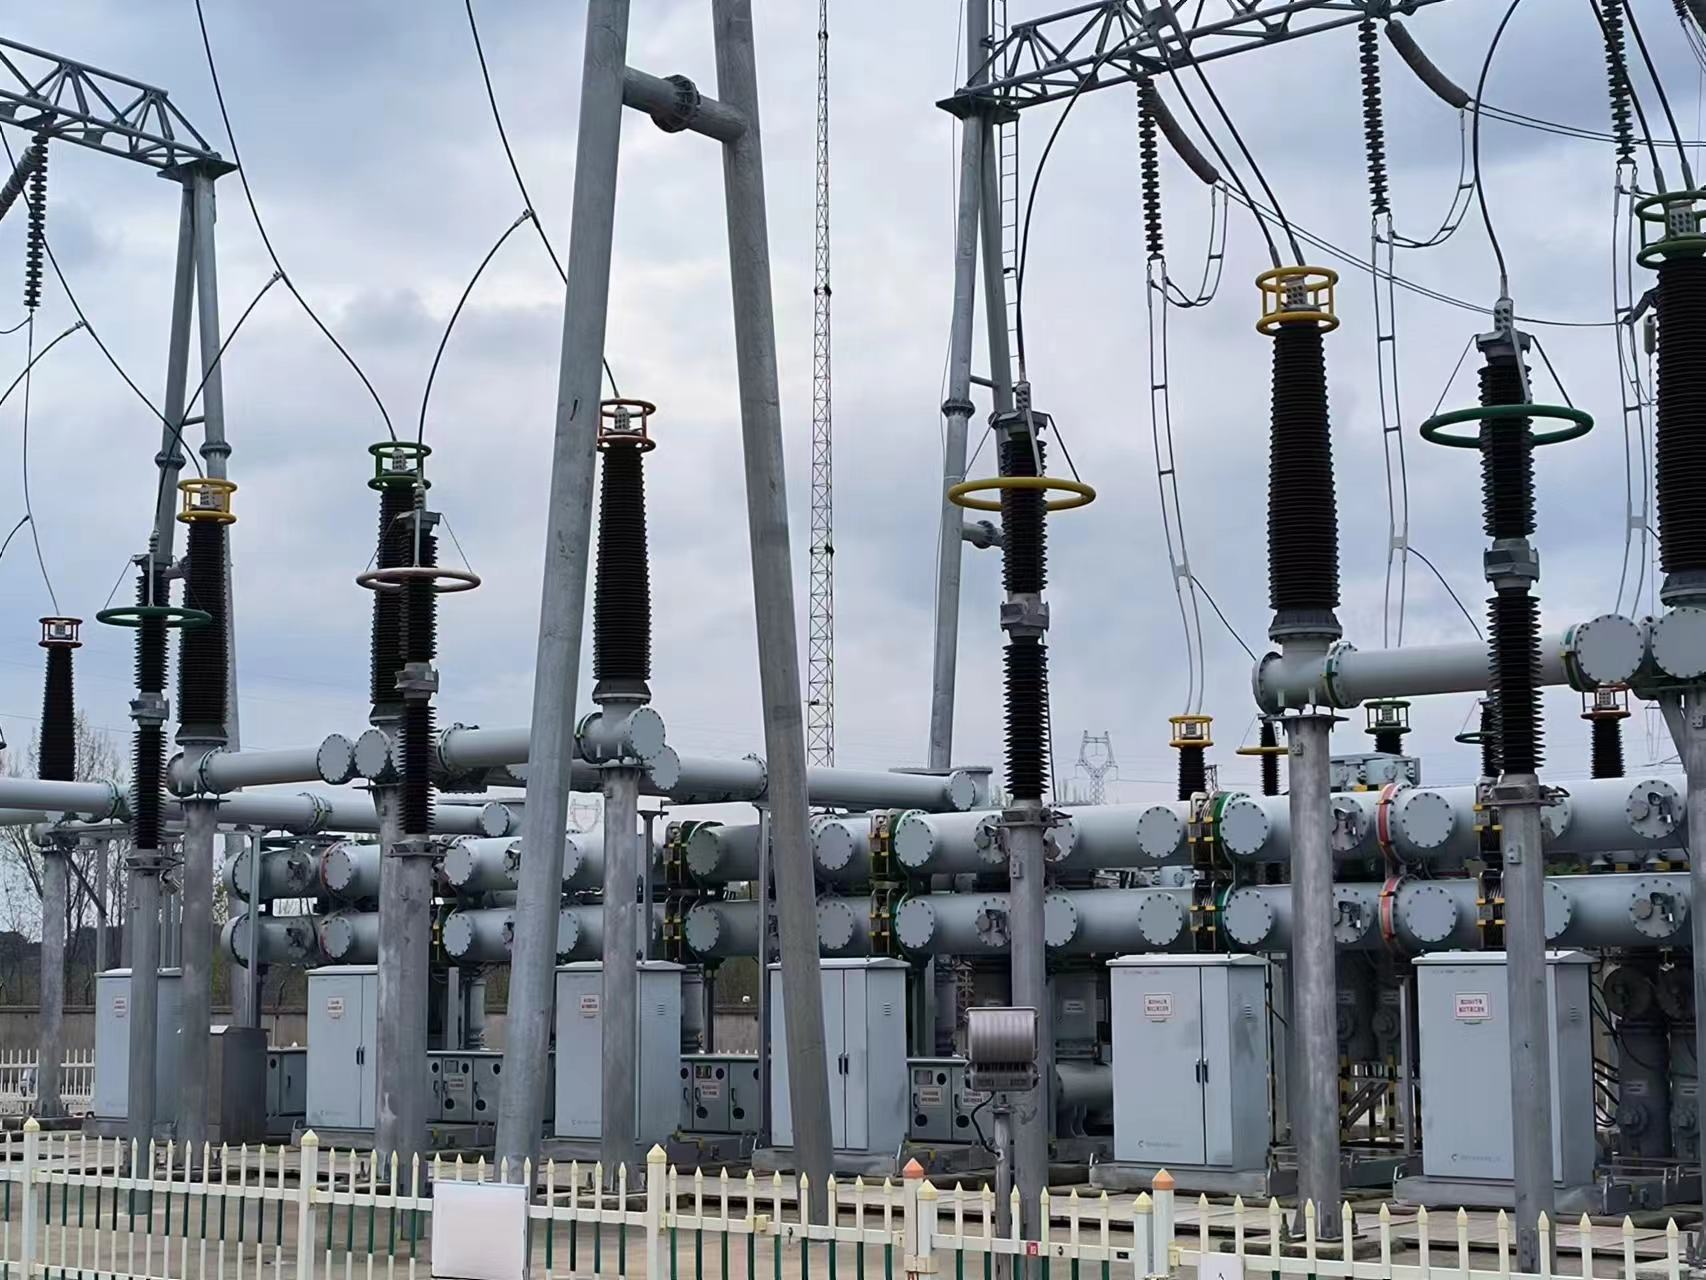Arrester: (1420, 317, 1597, 785), (950, 410, 1110, 805), (362, 510, 479, 835), (97, 561, 212, 856)
Voltage transformer: (1256, 264, 1356, 637), (1635, 187, 1706, 608), (592, 399, 675, 705), (176, 475, 237, 746), (34, 617, 87, 783)
